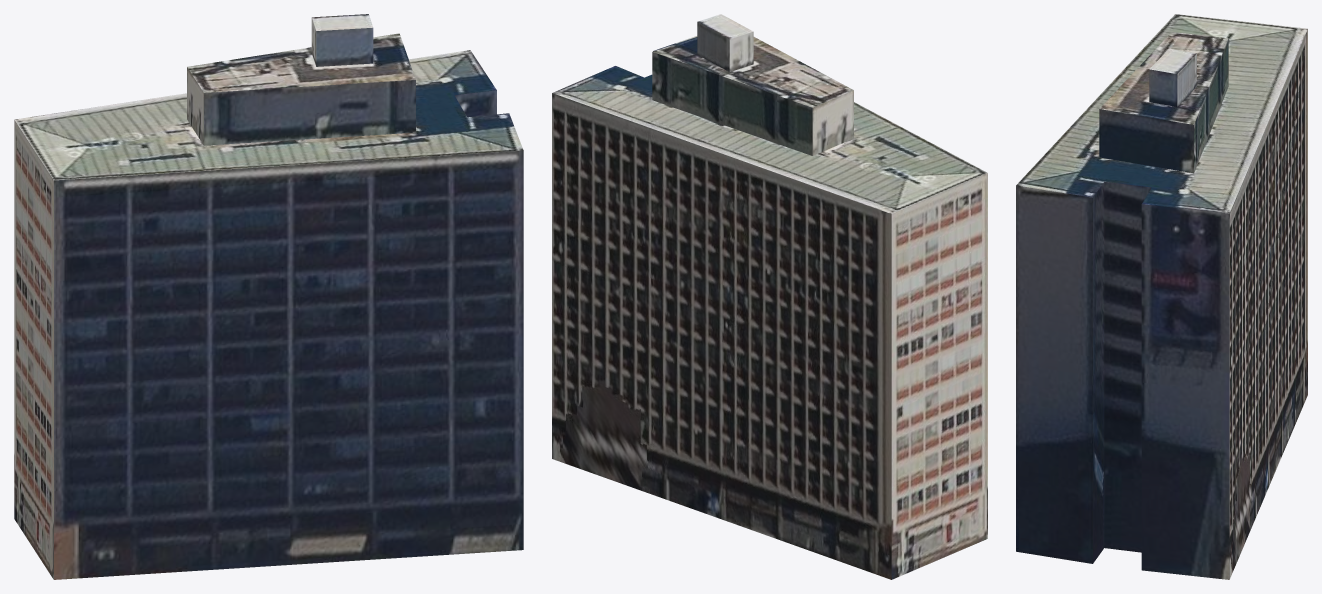
The model's file is edificio edwards.fbx.
3 views of the same model, side by side, from view 1: azimuth 30°, elevation 25°; view 2: azimuth 150°, elevation 25°; view 3: azimuth 270°, elevation 25° (orthographic). The views are drawn at different scales.
Visible parts, largest first — view 1: skp5A4D1; view 2: skp5A4D1; view 3: skp5A4D1.
Part boxes in pixels (bbox=[...]): skp5A4D1: bbox=[14, 14, 523, 579]; skp5A4D1: bbox=[552, 14, 987, 579]; skp5A4D1: bbox=[1016, 14, 1307, 579].
Bounding box in the file's own units: 39.59 × 41.39 × 24.46.
